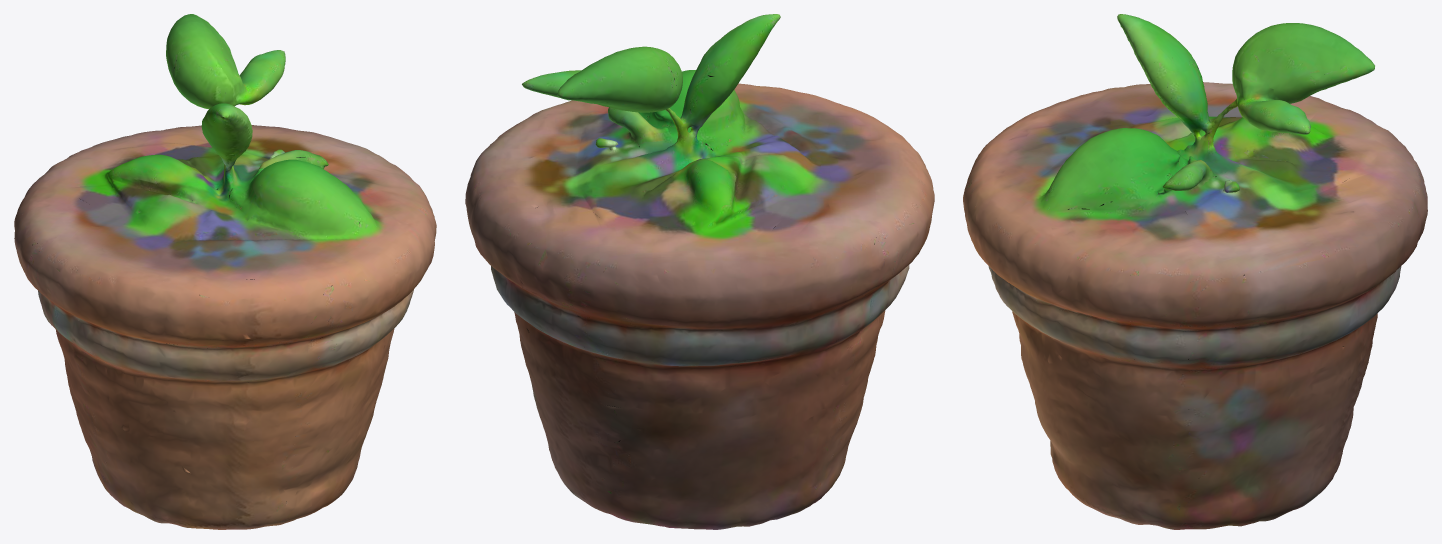
File: FlowerPot1.fbx
3 views of the same model, side by side, from view 1: azimuth 30°, elevation 25°; view 2: azimuth 150°, elevation 25°; view 3: azimuth 270°, elevation 25° (orthographic). The views are drawn at different scales.
Parts seen in each view (by area): view 1: Mesh1; view 2: Mesh1; view 3: Mesh1.
Part boxes in pixels (bbox=[...]): Mesh1: bbox=[14, 14, 436, 529]; Mesh1: bbox=[465, 14, 934, 529]; Mesh1: bbox=[963, 14, 1427, 529].
Size of the model in its own units: 108 by 120 by 108.
1 material, 1 textured.
